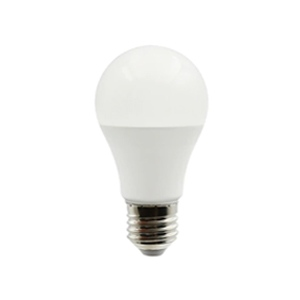Light_bulb: (92, 40, 213, 261)
